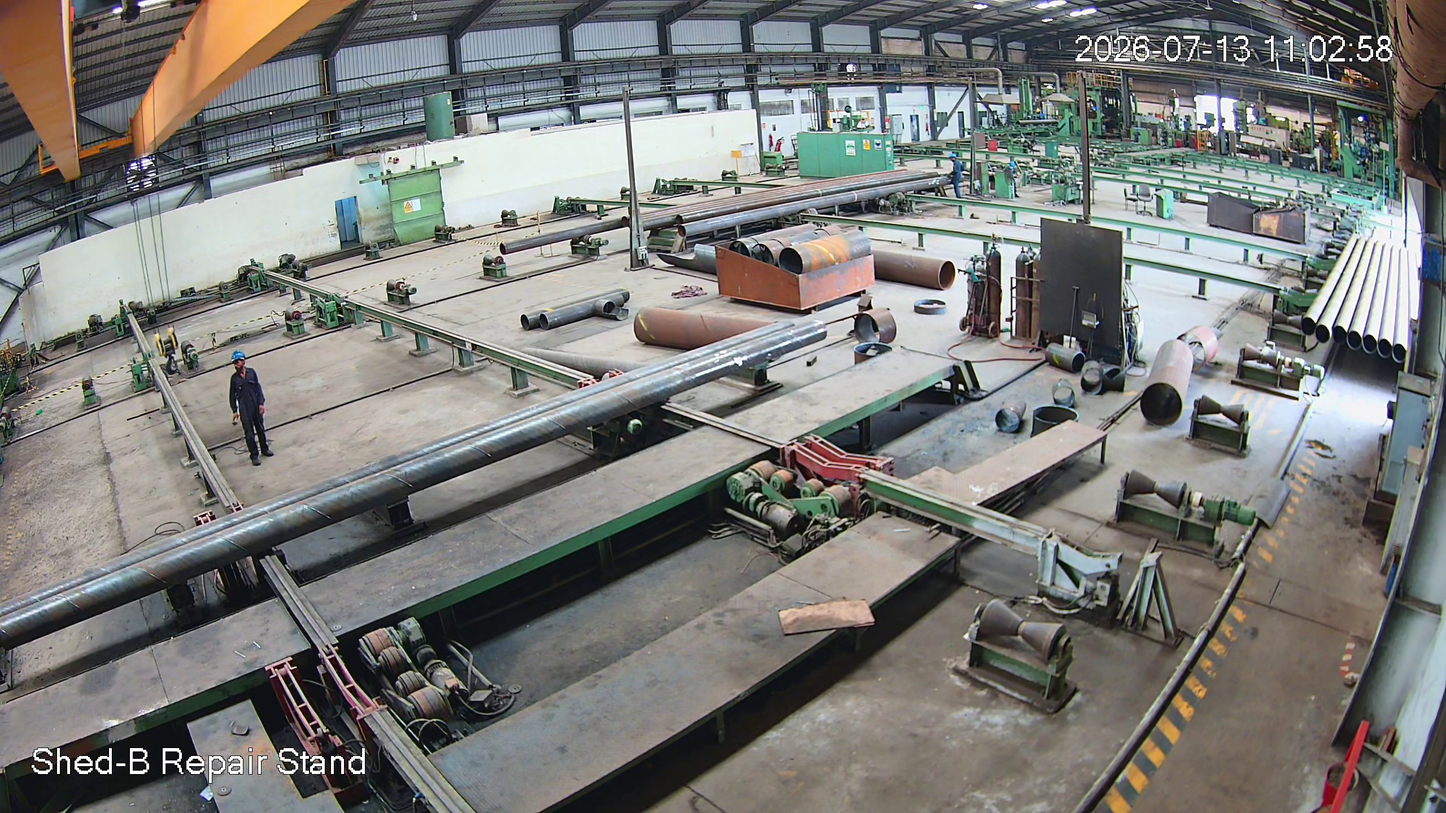Helmet: (228, 349, 250, 375)
Person: (224, 353, 273, 465)
